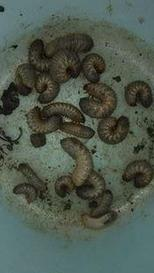grub: (58, 136, 95, 185)
